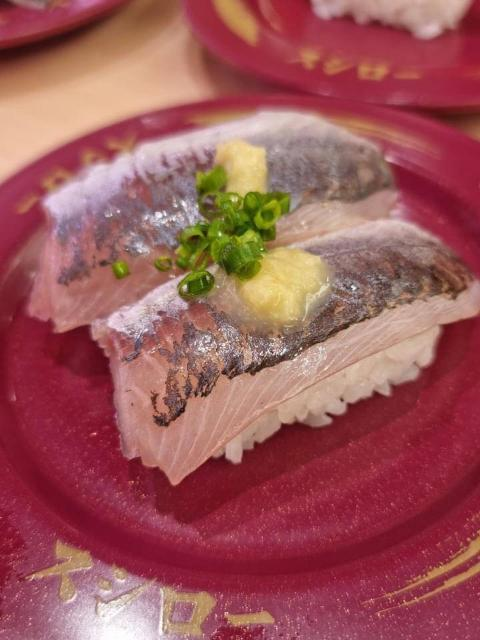janred: (0, 106, 480, 632), (173, 0, 480, 105), (0, 0, 128, 59)
